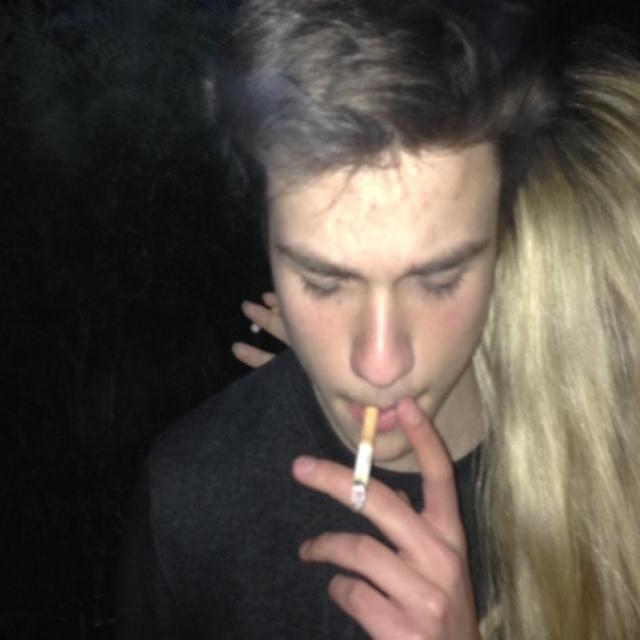smoke: (350, 400, 383, 525)
